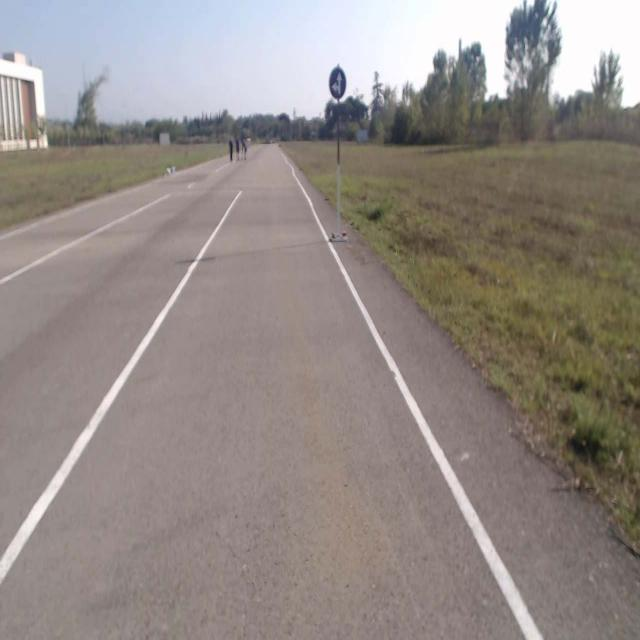ilerisol: (328, 66, 346, 98)
